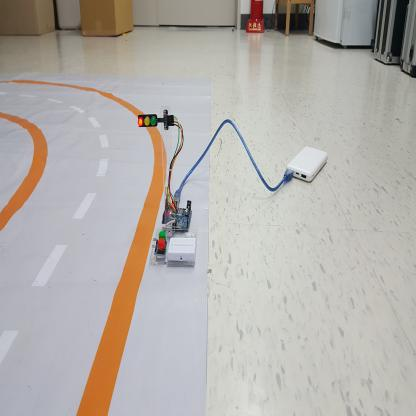traffic-light: (136, 112, 158, 130)
